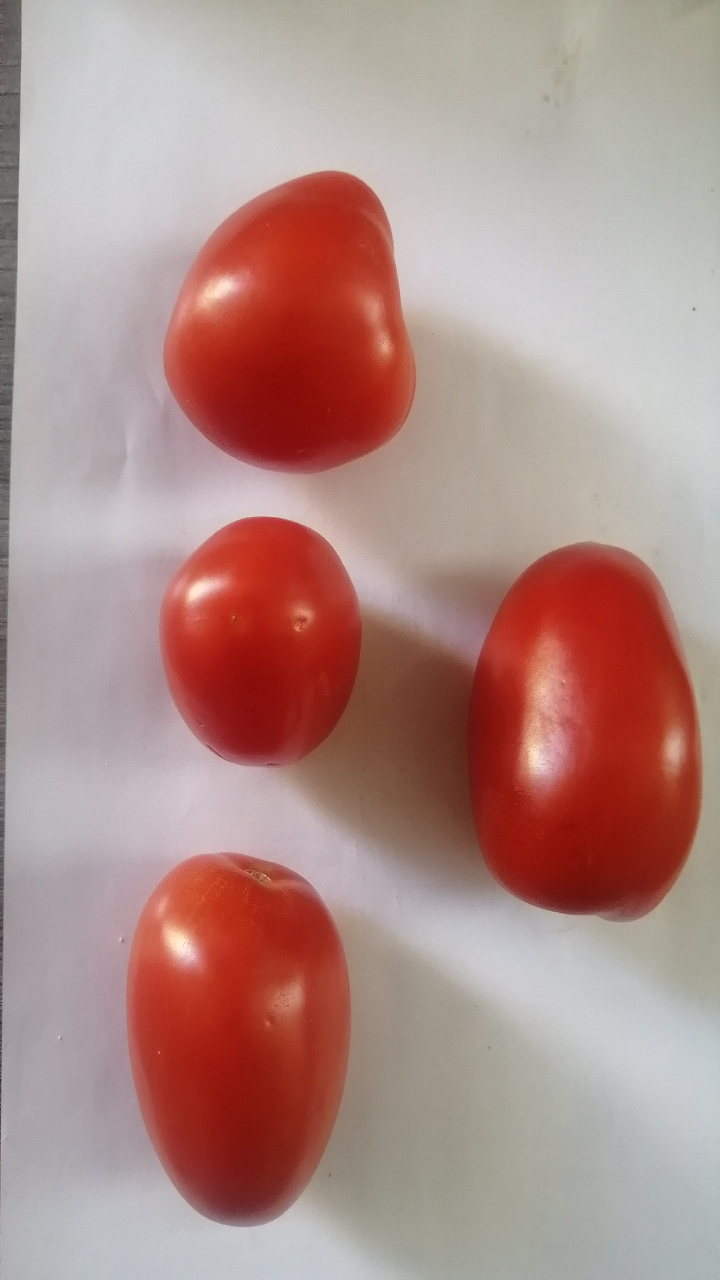tomateRojo: (443, 520, 706, 935), (141, 155, 457, 495), (123, 839, 372, 1242), (129, 499, 375, 783)
